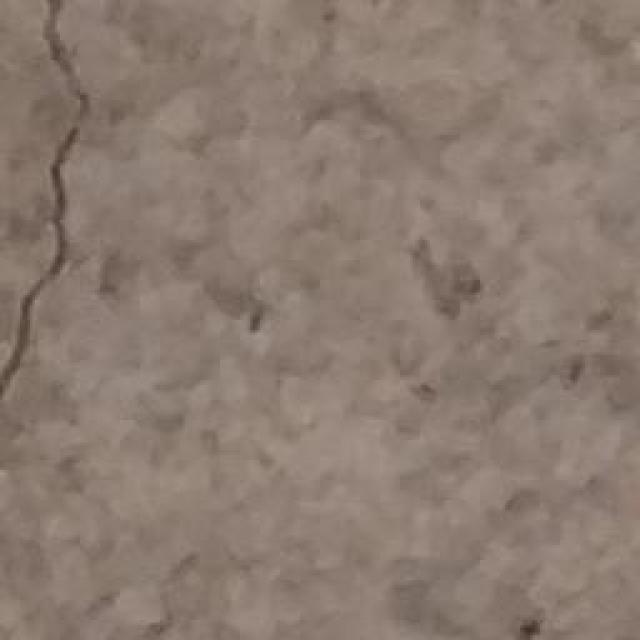Longitudinal: (0, 0, 98, 396)
